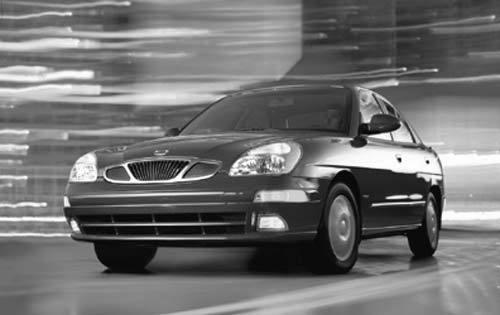car: (62, 83, 449, 274)
